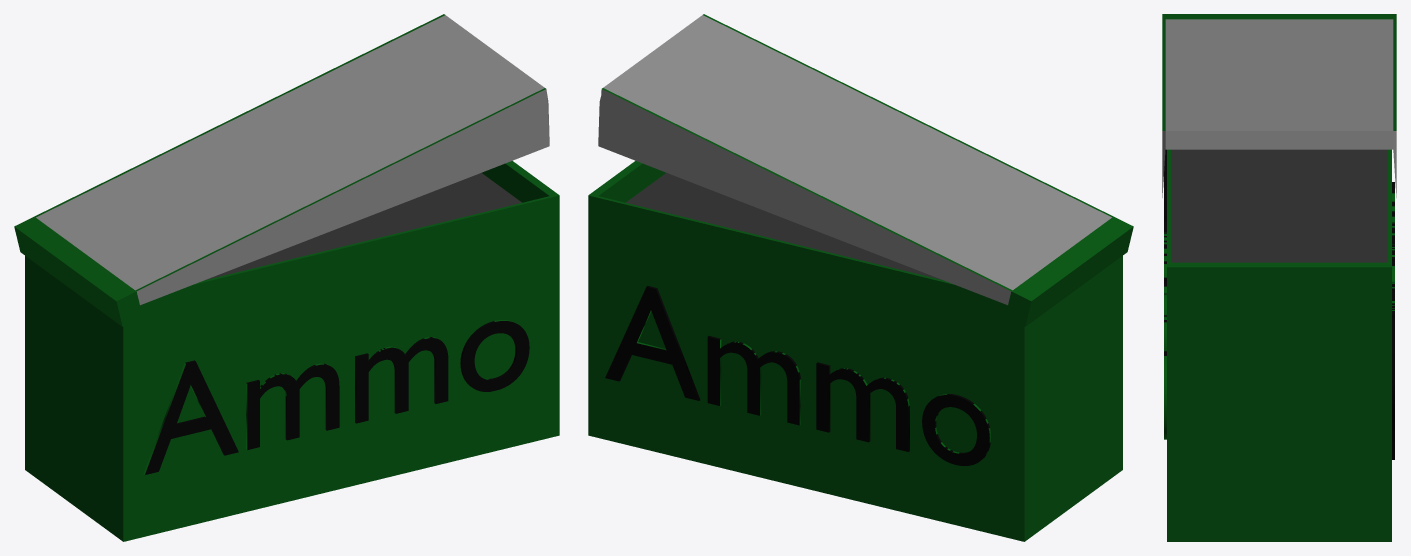
Rendered from Ammo.fbx.
The picture shows the model from 3 angles, left to right: view 1: azimuth 30°, elevation 25°; view 2: azimuth 150°, elevation 25°; view 3: azimuth 270°, elevation 25°; orthographic projection. The views are drawn at different scales.
Visible parts, largest first — view 1: Ammo; view 2: Ammo; view 3: Ammo.
Boxes of the visible parts, x1,y1,x2,y2 form: Ammo: [14, 14, 559, 541]; Ammo: [588, 14, 1133, 541]; Ammo: [1162, 14, 1396, 541].
Bounding box in the file's own units: 193 × 146 × 76.96.
